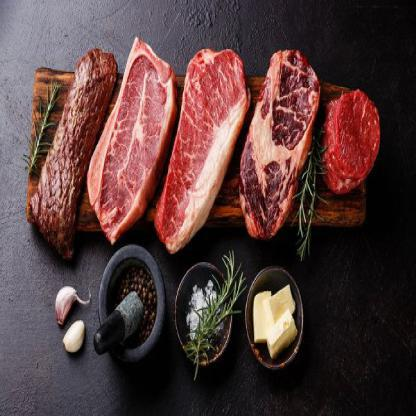beef: (171, 47, 240, 236), (98, 36, 162, 235), (250, 52, 303, 233), (53, 30, 93, 234), (322, 93, 382, 202)
